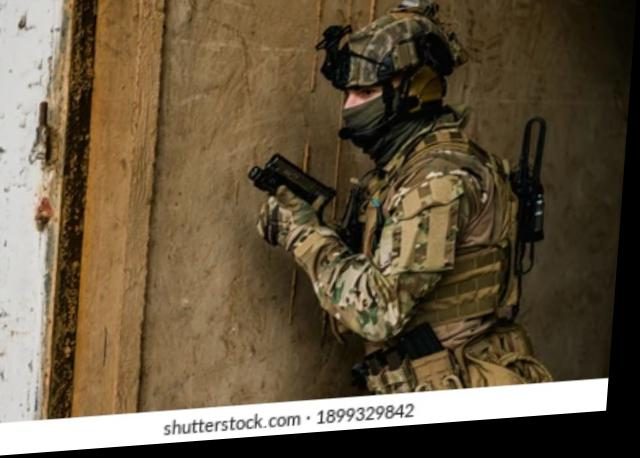other: (250, 0, 555, 406)
